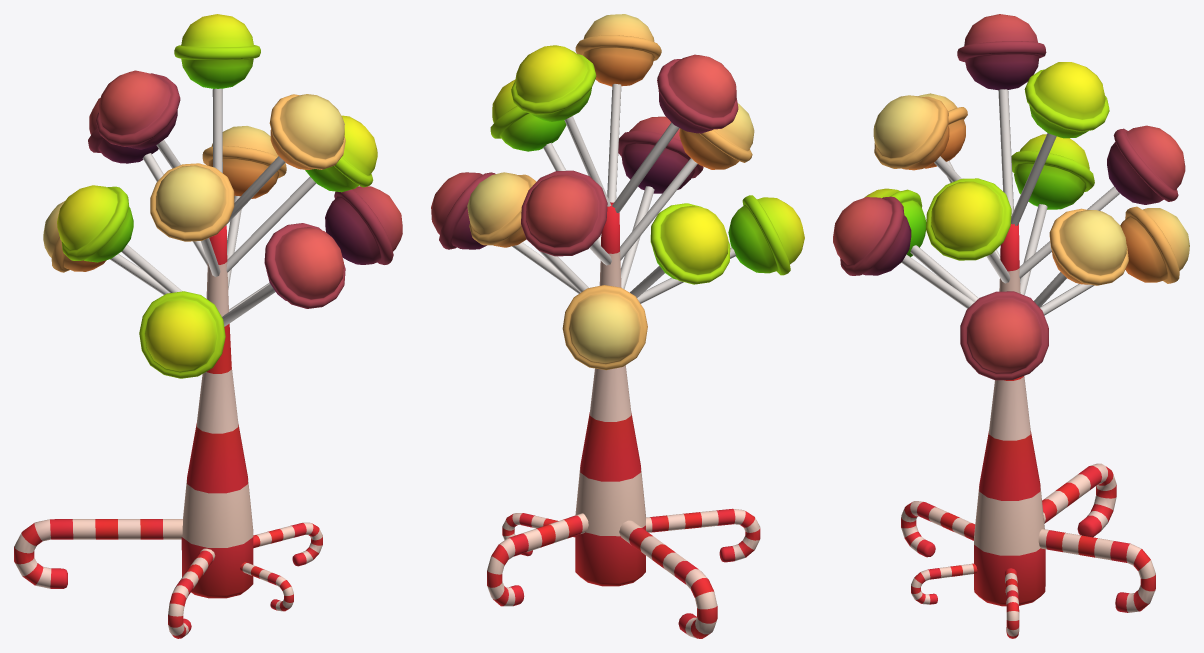
The model's file is cw_tree_17.fbx.
The picture shows the model from 3 angles, left to right: view 1: azimuth 30°, elevation 25°; view 2: azimuth 150°, elevation 25°; view 3: azimuth 270°, elevation 25°; orthographic projection.
Parts seen in each view (by area): view 1: cw_t_17; view 2: cw_t_17; view 3: cw_t_17.
Part boxes in pixels (x1,y1,x2,y2): cw_t_17: (14, 14, 402, 638); cw_t_17: (431, 14, 804, 638); cw_t_17: (833, 14, 1189, 638).
Size of the model in its own units: 151 by 236 by 140.
